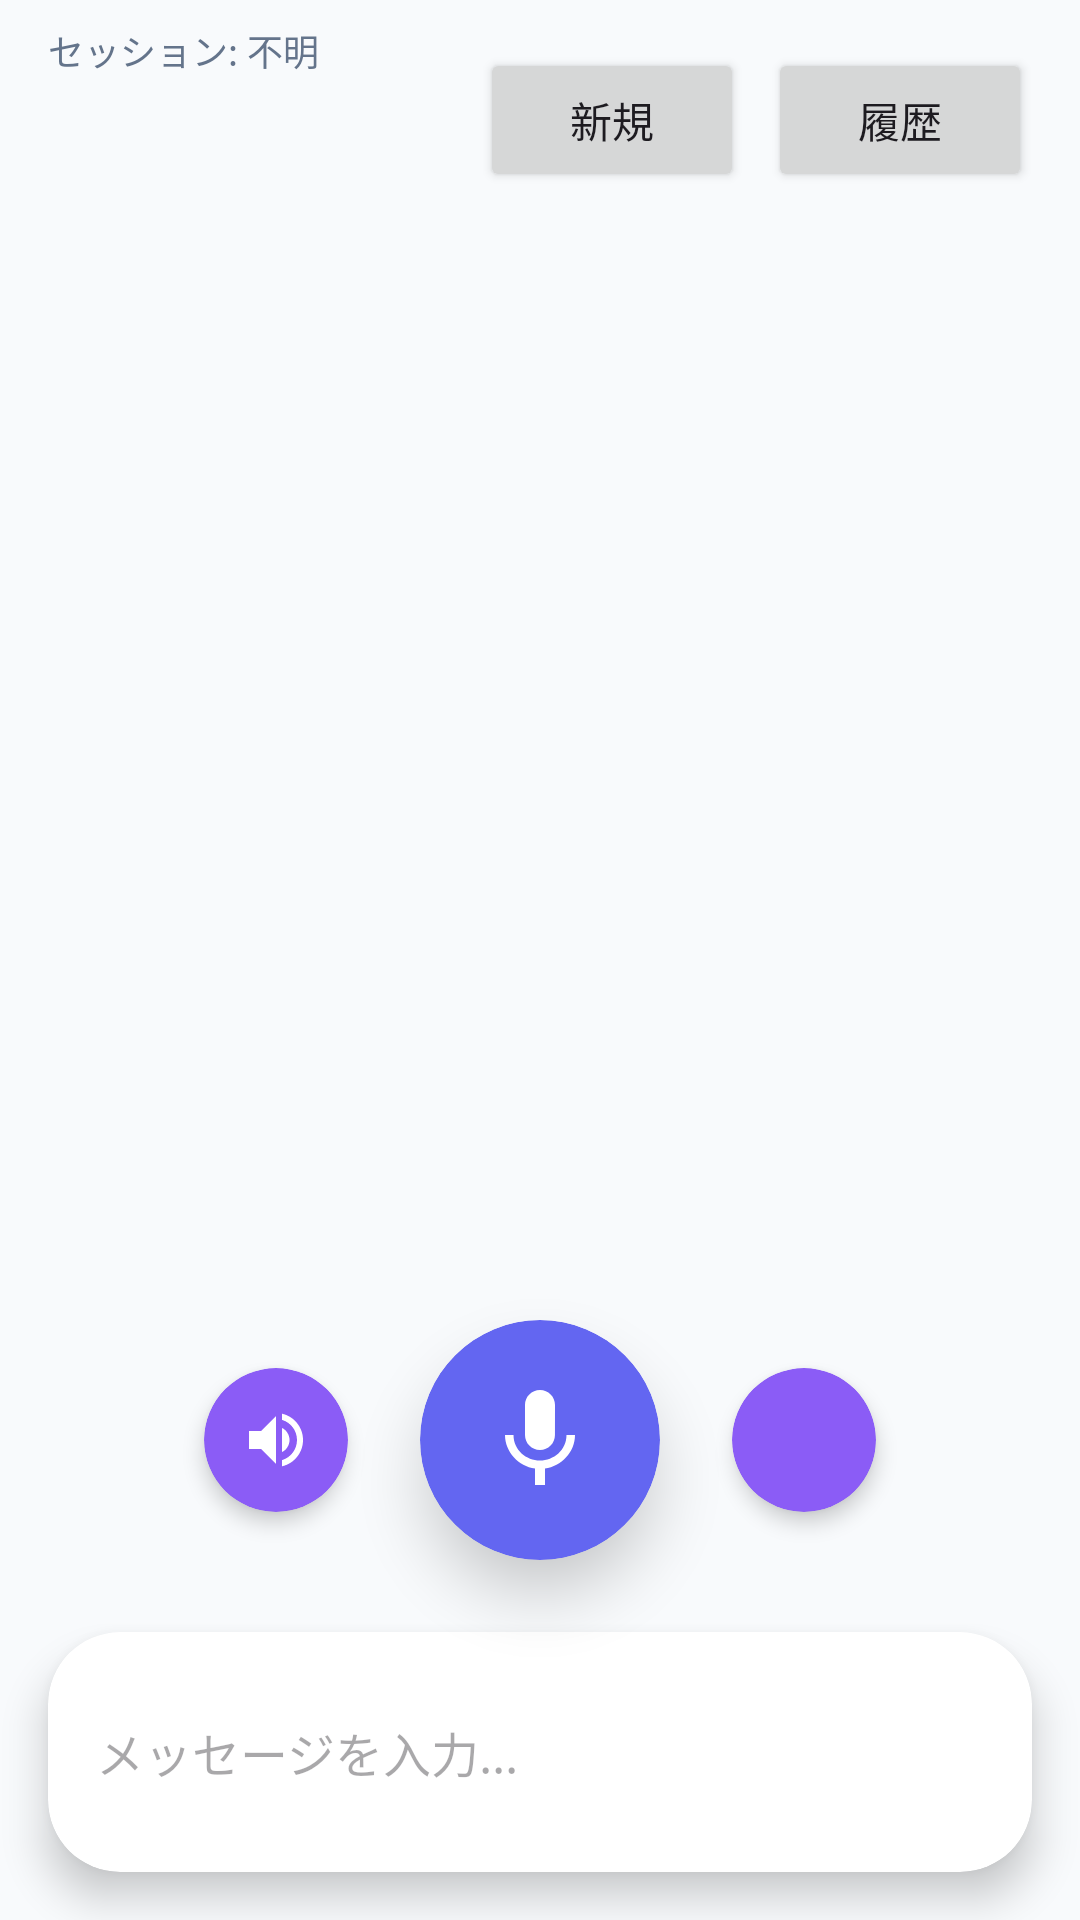

Icon bounding boxes for this 1080*1920 phone screenshot, format bbox(x1, y1, x2, y2):
mic: bbox(505, 1390, 575, 1485)
volume up: bbox(249, 1413, 303, 1467)
